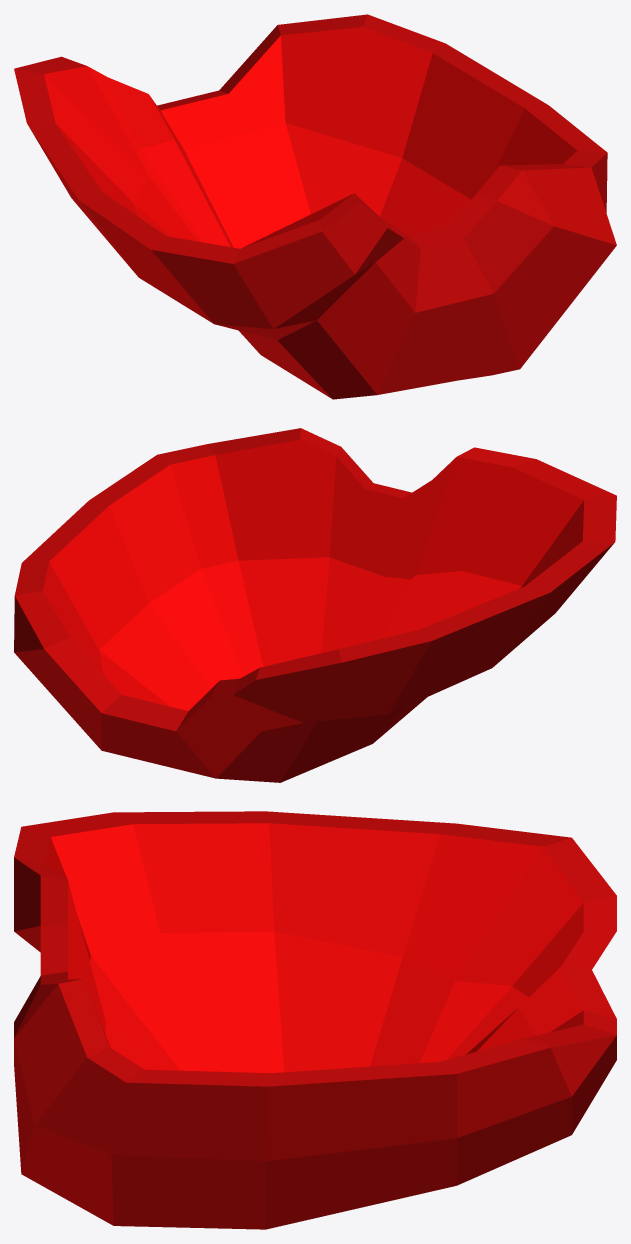
File: pepperfruit02.obj
3 views of the same model, one above another, from view 1: azimuth 30°, elevation 25°; view 2: azimuth 150°, elevation 25°; view 3: azimuth 270°, elevation 25° (orthographic). The views are drawn at different scales.
Parts seen in each view (by area): view 1: Cylinder.001; view 2: Cylinder.001; view 3: Cylinder.001.
Boxes of the visible parts, box(x1,y1,x2,y2) form: Cylinder.001: box(14, 14, 616, 399); Cylinder.001: box(14, 428, 616, 782); Cylinder.001: box(14, 811, 616, 1229).
Bounding box in the file's own units: 0.0765 × 0.0374 × 0.0771.
Materials: 1 (1 with a texture image).
